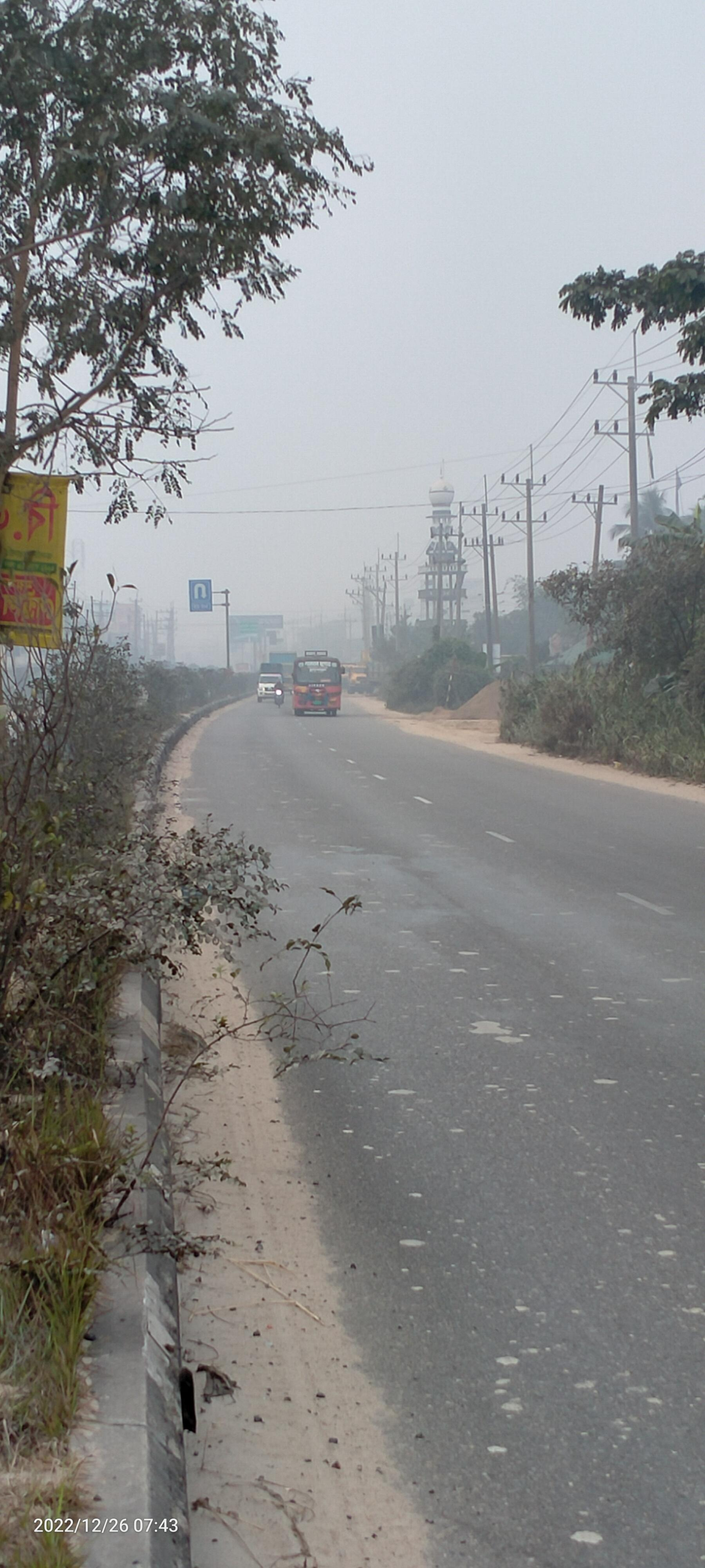Bike: (271, 677, 286, 713)
Bus: (291, 648, 350, 722)
Truck: (252, 660, 285, 706)
